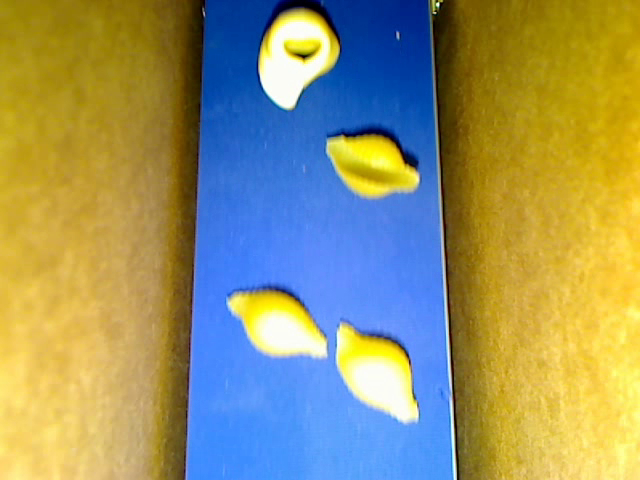shell: (335, 322, 419, 422), (225, 289, 329, 356), (324, 132, 419, 200)
tortellini: (257, 7, 341, 110)
